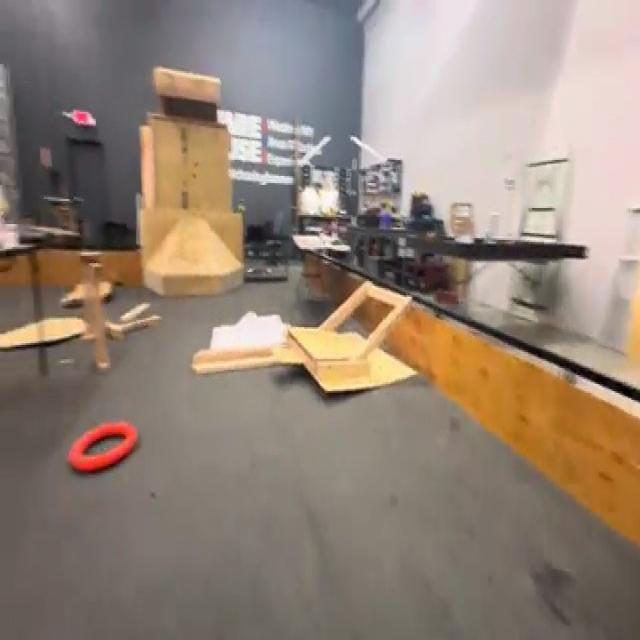note: (68, 418, 140, 472)
